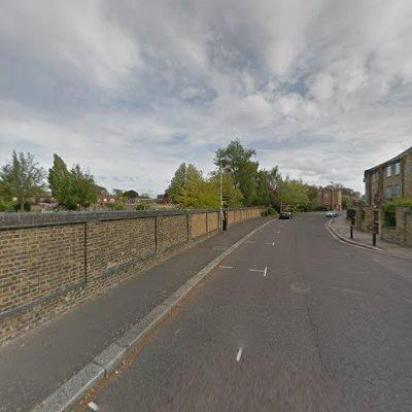moving-car: (325, 209, 336, 217)
stationary-car-onstreet: (279, 210, 293, 220)
